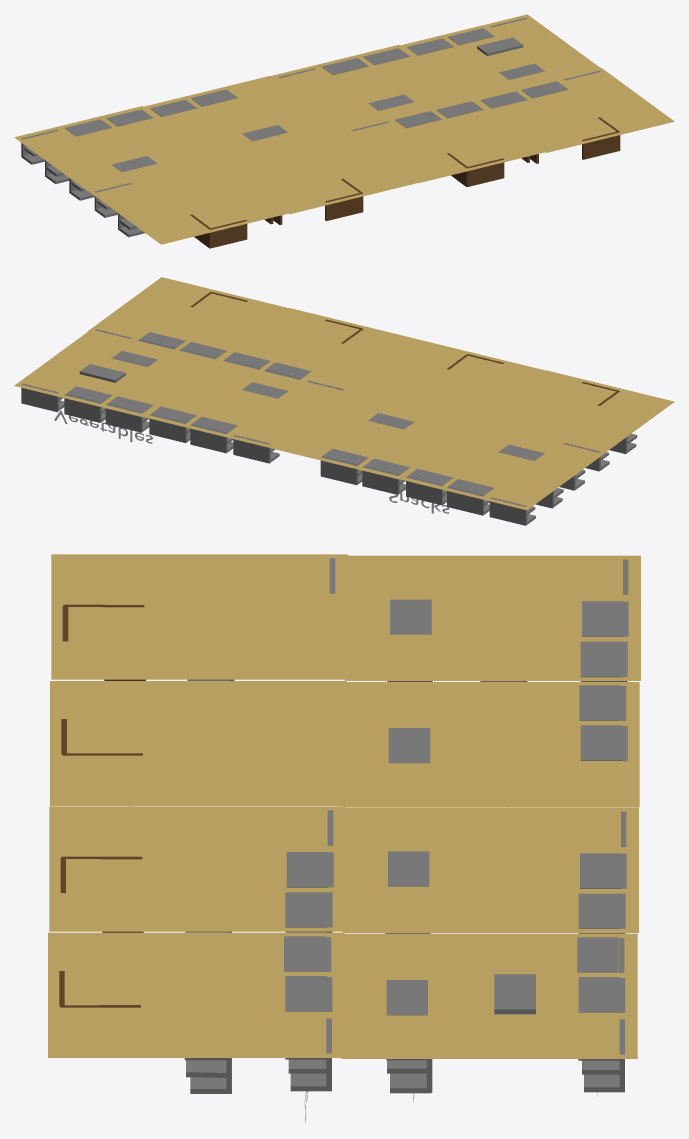
Rendered from store.glb.
3 renders of one model, top to bottom at view 1: azimuth 30°, elevation 25°; view 2: azimuth 150°, elevation 25°; view 3: azimuth 270°, elevation 25°, orthographic. The views are drawn at different scales.
Parts seen in each view (by area): view 1: Plane.004, Plane, Plane.012, Plane.008, Plane.006, Plane.015, Plane.002, Plane.010, Plane.001, Cube.183, Cube.035, Cube.109 (+18 smaller); view 2: Plane.004, Plane, Plane.012, Plane.008, Plane.015, Plane.006, Plane.002, Plane.010, Plane.001, Cube.116, Cube.048, Cube.270 (+26 smaller); view 3: Plane.004, Plane.008, Plane.012, Plane, Plane.002, Plane.015, Plane.006, Plane.010, Plane.001, Cube.333, Cube.114, Cube.226 (+14 smaller).
Boxes of the visible parts, left/top/right/bottom form: Plane.004: left=87, top=159, right=288, bottom=244; Plane: left=217, top=129, right=417, bottom=213; Plane.012: left=345, top=98, right=545, bottom=183; Plane.008: left=473, top=67, right=674, bottom=152; Plane.006: left=14, top=106, right=214, bottom=190; Plane.015: left=271, top=45, right=471, bottom=128; Plane.002: left=143, top=75, right=342, bottom=159; Plane.010: left=400, top=14, right=599, bottom=98; Plane.001: left=218, top=132, right=413, bottom=211; Cube.183: left=582, top=131, right=619, bottom=159; Cube.035: left=325, top=192, right=362, bottom=220; Cube.109: left=210, top=220, right=247, bottom=248; Plane.004: left=472, top=370, right=674, bottom=455; Plane: left=351, top=339, right=545, bottom=424; Plane.012: left=216, top=308, right=417, bottom=393; Plane.008: left=87, top=277, right=288, bottom=362; Plane.015: left=142, top=362, right=343, bottom=447; Plane.006: left=399, top=425, right=600, bottom=510; Plane.002: left=271, top=394, right=471, bottom=479; Plane.010: left=14, top=331, right=215, bottom=417; Plane.001: left=344, top=342, right=480, bottom=420; Cube.116: left=489, top=497, right=527, bottom=525; Cube.048: left=320, top=456, right=358, bottom=484; Cube.270: left=190, top=424, right=227, bottom=453; Plane.004: left=51, top=554, right=347, bottom=679; Plane.008: left=48, top=932, right=344, bottom=1057; Plane.012: left=49, top=806, right=345, bottom=931; Plane: left=50, top=681, right=346, bottom=805; Plane.002: left=343, top=682, right=639, bottom=807; Plane.015: left=342, top=807, right=638, bottom=932; Plane.006: left=344, top=555, right=640, bottom=680; Plane.010: left=341, top=933, right=637, bottom=1058; Plane.001: left=50, top=681, right=346, bottom=793; Cube.333: left=494, top=974, right=535, bottom=1014; Cube.114: left=580, top=641, right=622, bottom=681; Cube.226: left=285, top=892, right=326, bottom=932.
Bounding box in the file's own units: 85.58 × 6.45 × 42.85.
